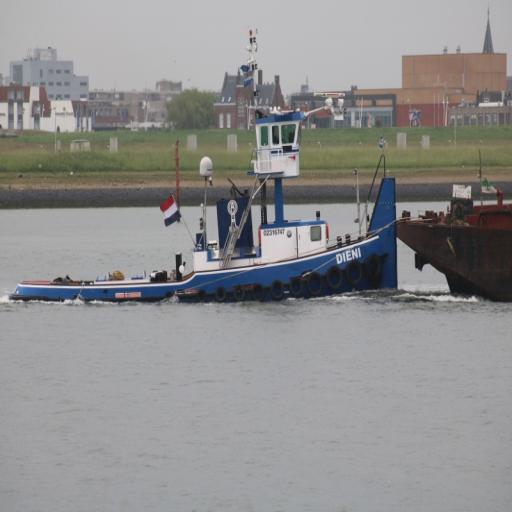tugboat: (8, 25, 404, 312)
